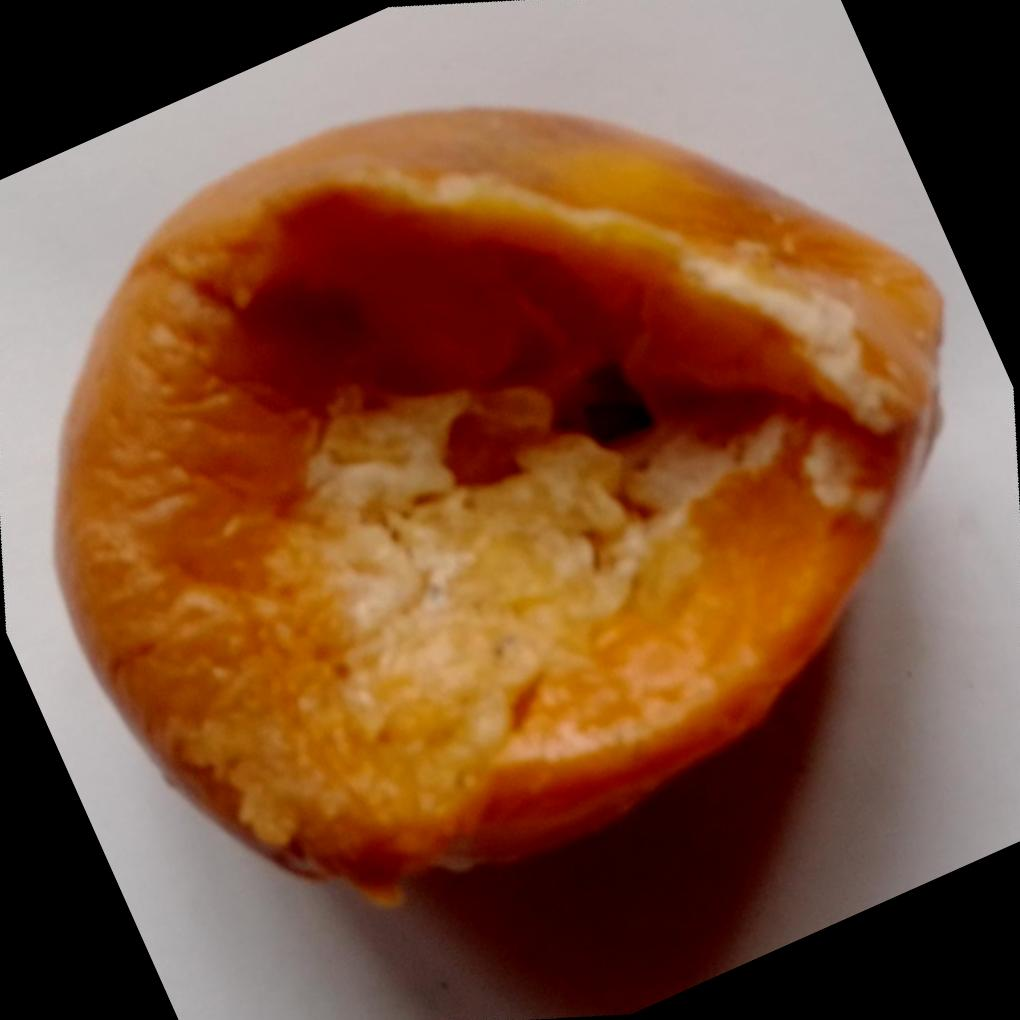FreshOrange: (53, 104, 947, 912)
